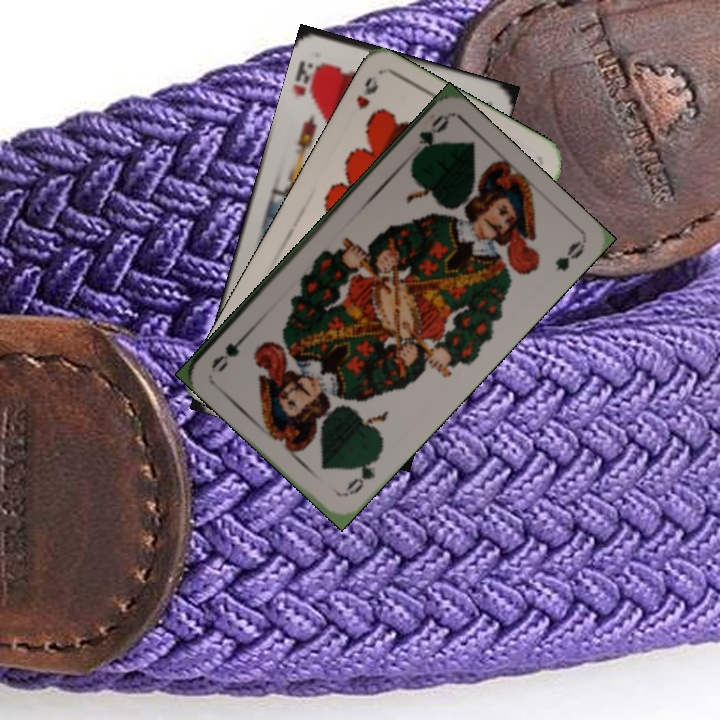GO: (408, 110, 451, 165), (340, 450, 383, 499)
H9: (352, 72, 382, 112)
HK: (289, 55, 325, 101)
